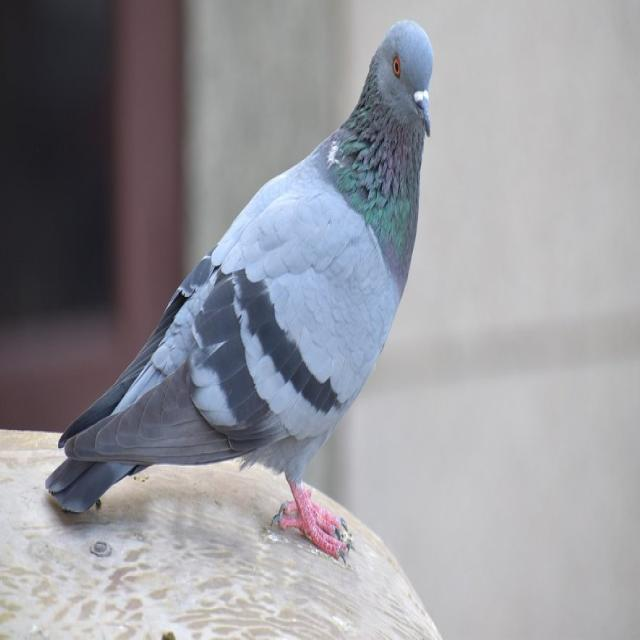pigeon: (46, 17, 464, 575)
